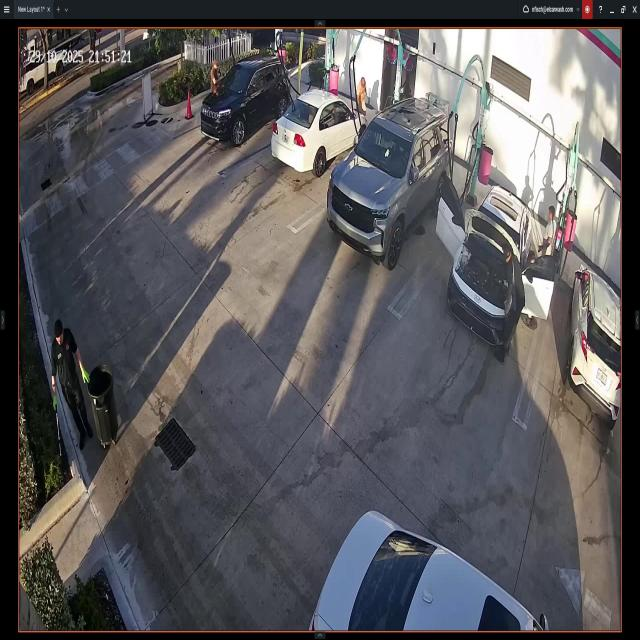Car: (307, 506, 550, 635), (328, 95, 450, 273), (442, 174, 556, 349), (274, 88, 368, 179), (570, 257, 620, 424), (204, 56, 290, 151)
